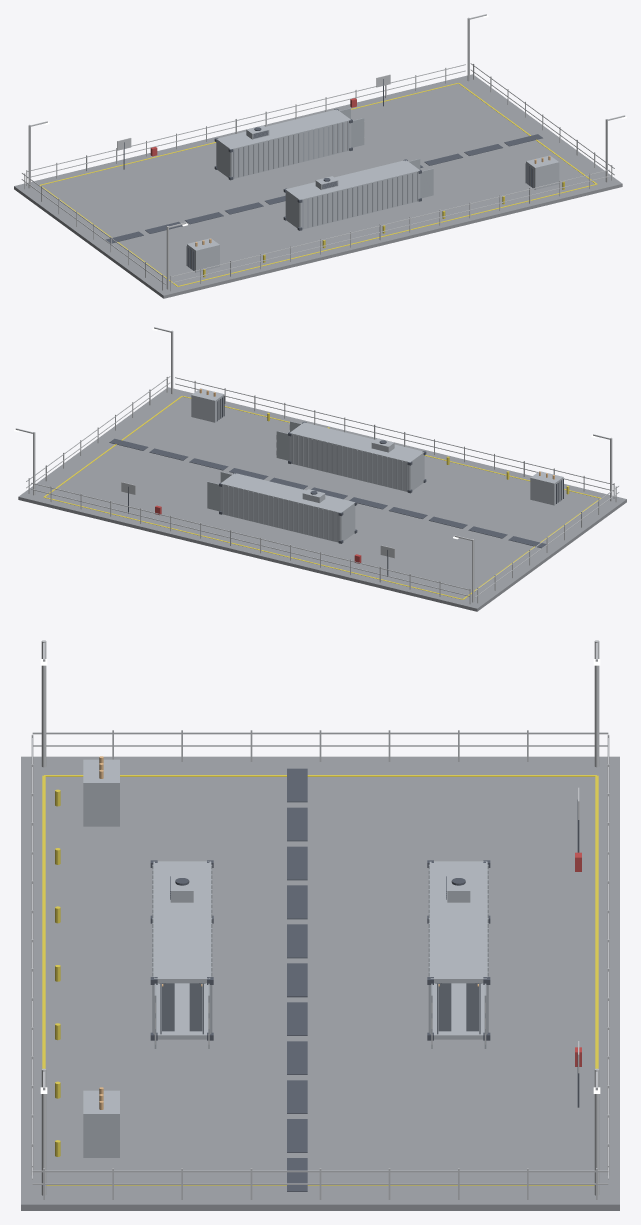
Rendered from ess-site-v4.glb.
The picture shows the model from 3 angles, top to bottom: view 1: azimuth 30°, elevation 25°; view 2: azimuth 150°, elevation 25°; view 3: azimuth 270°, elevation 25°; orthographic projection. The views are drawn at different scales.
Visible parts, largest first — view 1: GEO-ess_pad, GEO-ess_shell, GEO-ess_fence, GEO-ess_rib, GEO-ess_dark, GEO-ess_mark, GEO-ess_door; view 2: GEO-ess_pad, GEO-ess_shell, GEO-ess_fence, GEO-ess_rib, GEO-ess_dark, GEO-ess_mark, GEO-ess_door; view 3: GEO-ess_pad, GEO-ess_shell, GEO-ess_fence, GEO-ess_dark, GEO-ess_mark, GEO-ess_cab, GEO-ess_rib.
Boxes of the visible parts, left/top/right/bottom form: GEO-ess_pad: left=14, top=74, right=622, bottom=298; GEO-ess_shell: left=187, top=109, right=559, bottom=272; GEO-ess_fence: left=21, top=14, right=625, bottom=291; GEO-ess_rib: left=233, top=121, right=418, bottom=229; GEO-ess_dark: left=105, top=79, right=542, bottom=270; GEO-ess_mark: left=39, top=83, right=597, bottom=286; GEO-ess_door: left=339, top=108, right=433, bottom=198; GEO-ess_pad: left=18, top=387, right=626, bottom=611; GEO-ess_shell: left=191, top=388, right=563, bottom=542; GEO-ess_fence: left=15, top=327, right=619, bottom=604; GEO-ess_rib: left=222, top=434, right=407, bottom=542; GEO-ess_dark: left=109, top=396, right=563, bottom=576; GEO-ess_mark: left=43, top=396, right=601, bottom=599; GEO-ess_door: left=207, top=421, right=301, bottom=511; GEO-ess_pad: left=21, top=756, right=619, bottom=1210; GEO-ess_shell: left=83, top=759, right=487, bottom=1157; GEO-ess_fence: left=31, top=640, right=609, bottom=1199; GEO-ess_dark: left=150, top=768, right=579, bottom=1191; GEO-ess_mark: left=42, top=775, right=598, bottom=1185; GEO-ess_cab: left=159, top=983, right=481, bottom=1034; GEO-ess_rib: left=152, top=864, right=488, bottom=1032.
Size of the model in its own units: 46.92 by 6.3 by 26.
